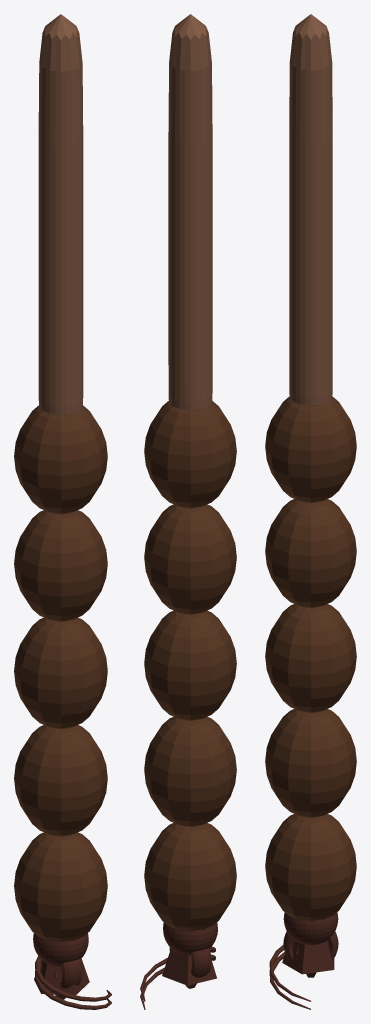
File: Wand 219.glb
3 renders of one model, left to right at view 1: azimuth 30°, elevation 25°; view 2: azimuth 210°, elevation 25°; view 3: azimuth 270°, elevation 25°, orthographic. The views are drawn at different scales.
Visible parts, largest first — view 1: GeneratedWand, Pommel_4, Pommel_9, Pommel_2, Pommel_10; view 2: GeneratedWand, Pommel_4, Pommel_9, Pommel_2; view 3: GeneratedWand, Pommel_9, Pommel_4, Pommel_2, Pommel_10.
Part boxes in pixels (box(x1,y1,x2,y2)): GeneratedWand: box(14, 14, 111, 1001); Pommel_4: box(33, 933, 88, 966); Pommel_9: box(34, 958, 89, 994); Pommel_2: box(60, 959, 81, 988); Pommel_10: box(35, 962, 111, 1009); GeneratedWand: box(140, 14, 236, 1001); Pommel_4: box(163, 922, 217, 954); Pommel_9: box(162, 948, 216, 985); Pommel_2: box(169, 947, 211, 977); GeneratedWand: box(265, 14, 356, 1001); Pommel_9: box(282, 940, 334, 974); Pommel_4: box(283, 912, 338, 944); Pommel_2: box(283, 931, 338, 960); Pommel_10: box(269, 951, 310, 1009).
Bounding box in the file's own units: 0.0481 × 0.5262 × 0.0449.
